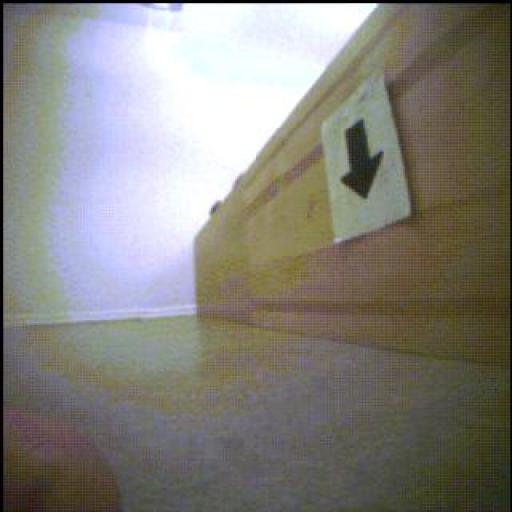Arrow: (342, 121, 385, 199)
